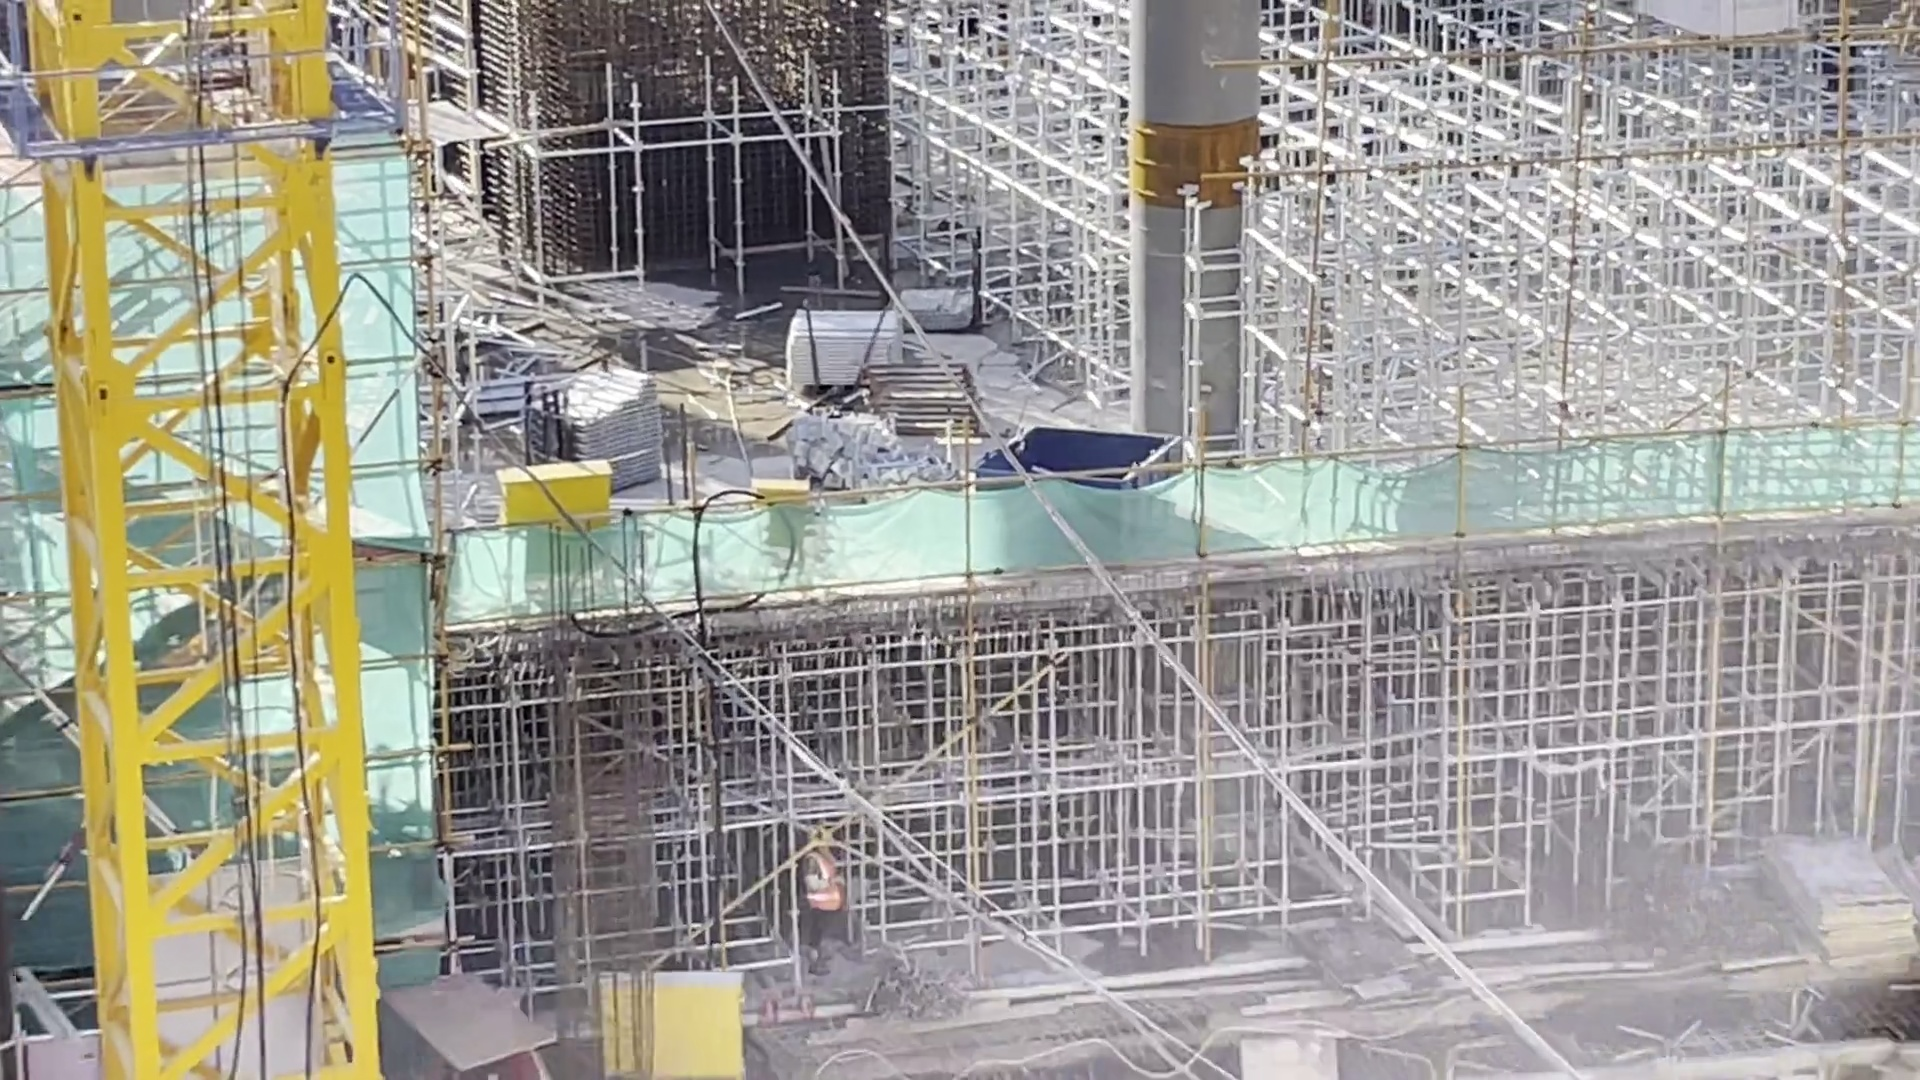board: (1774, 831, 1920, 968)
ebox: (474, 452, 626, 579), (593, 961, 739, 1080), (763, 489, 803, 572)
helmet: (803, 826, 824, 849)
hopper: (991, 429, 1149, 546)
person: (798, 831, 843, 970)
scaffold: (524, 359, 669, 494), (779, 294, 919, 391)
vest: (803, 857, 839, 917)
